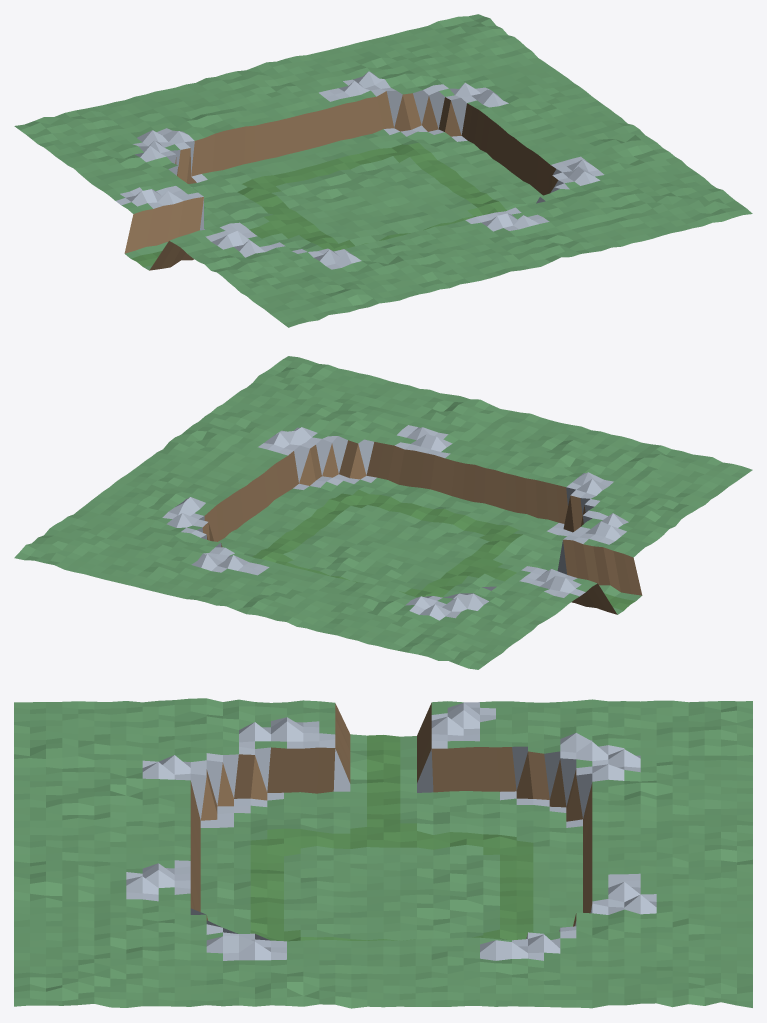
File: stage_rabbitvillage.fbx
The picture shows the model from 3 angles, top to bottom: view 1: azimuth 30°, elevation 25°; view 2: azimuth 150°, elevation 25°; view 3: azimuth 270°, elevation 25°; orthographic projection. The views are drawn at different scales.
Parts seen in each view (by area): view 1: 平面; view 2: 平面; view 3: 平面.
Part boxes in pixels (<box>): 平面: <box>14,14,752,327</box>; 平面: <box>14,356,752,669</box>; 平面: <box>14,698,752,1008</box>.
Size of the model in its own units: 5842 by 535 by 5800.
